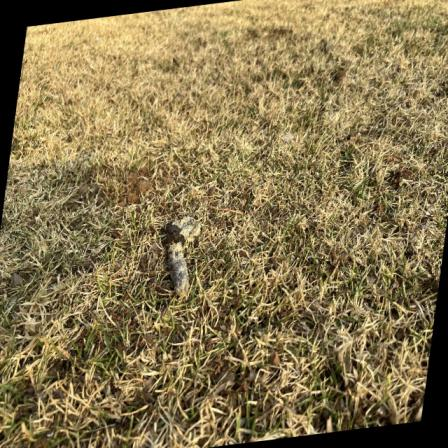dog-poop: (151, 213, 211, 304)
